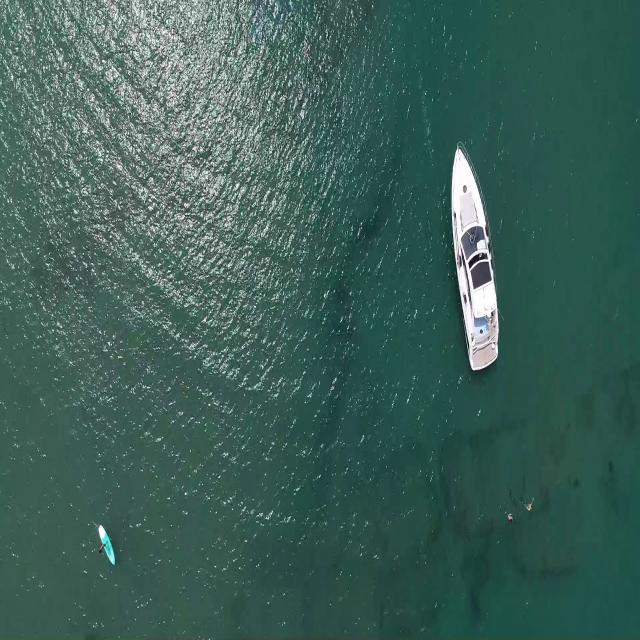boat: (448, 138, 502, 376)
person: (523, 498, 536, 512), (97, 539, 109, 554), (506, 511, 514, 521)
surfboard: (99, 520, 115, 571)
